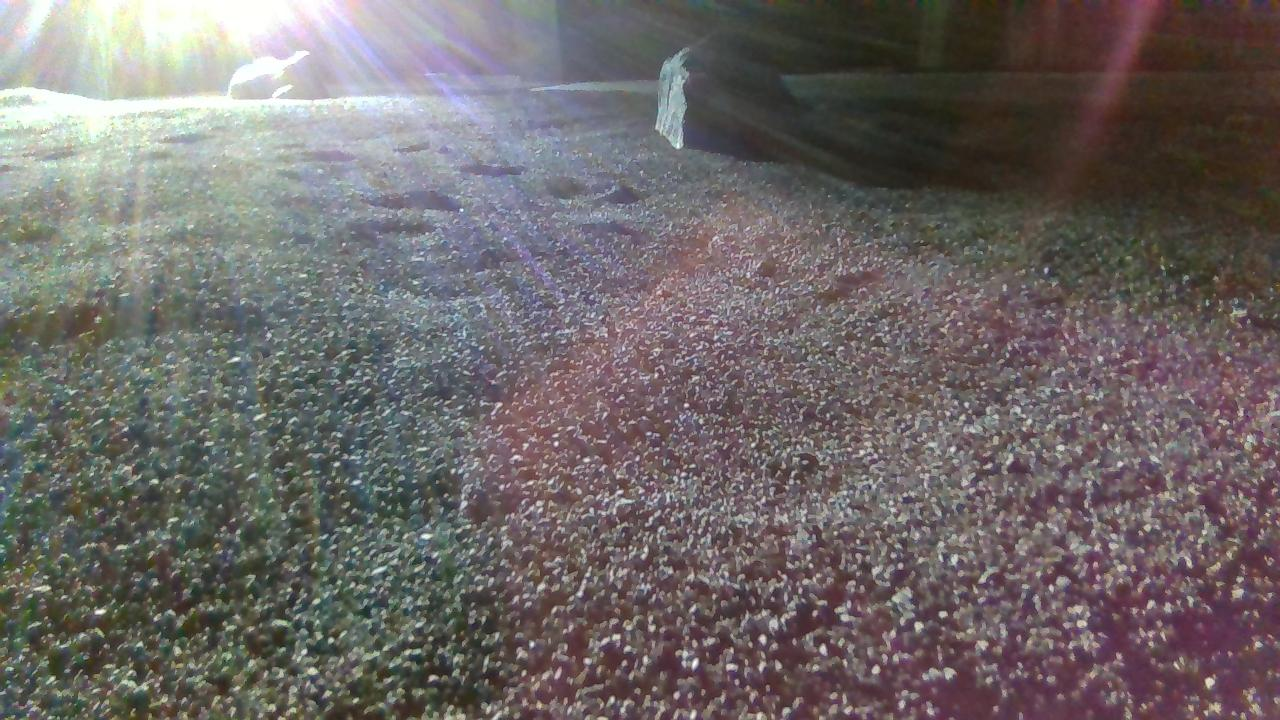rock: (658, 40, 791, 150), (226, 49, 327, 98)
